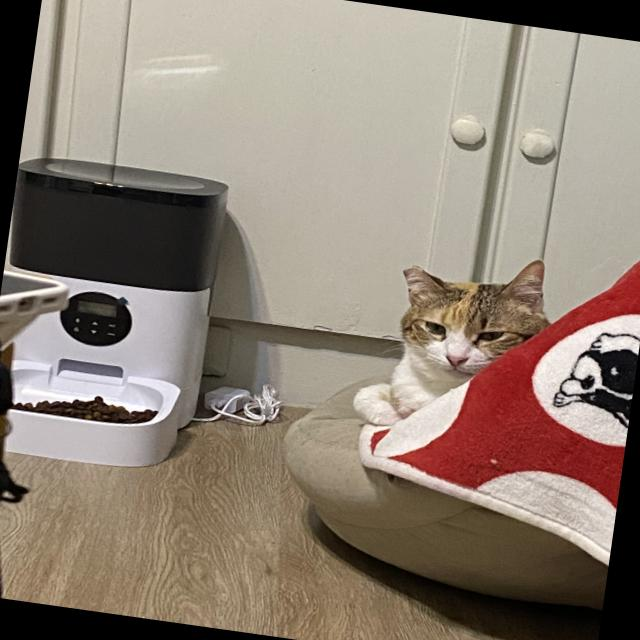cat2: (362, 252, 592, 444)
